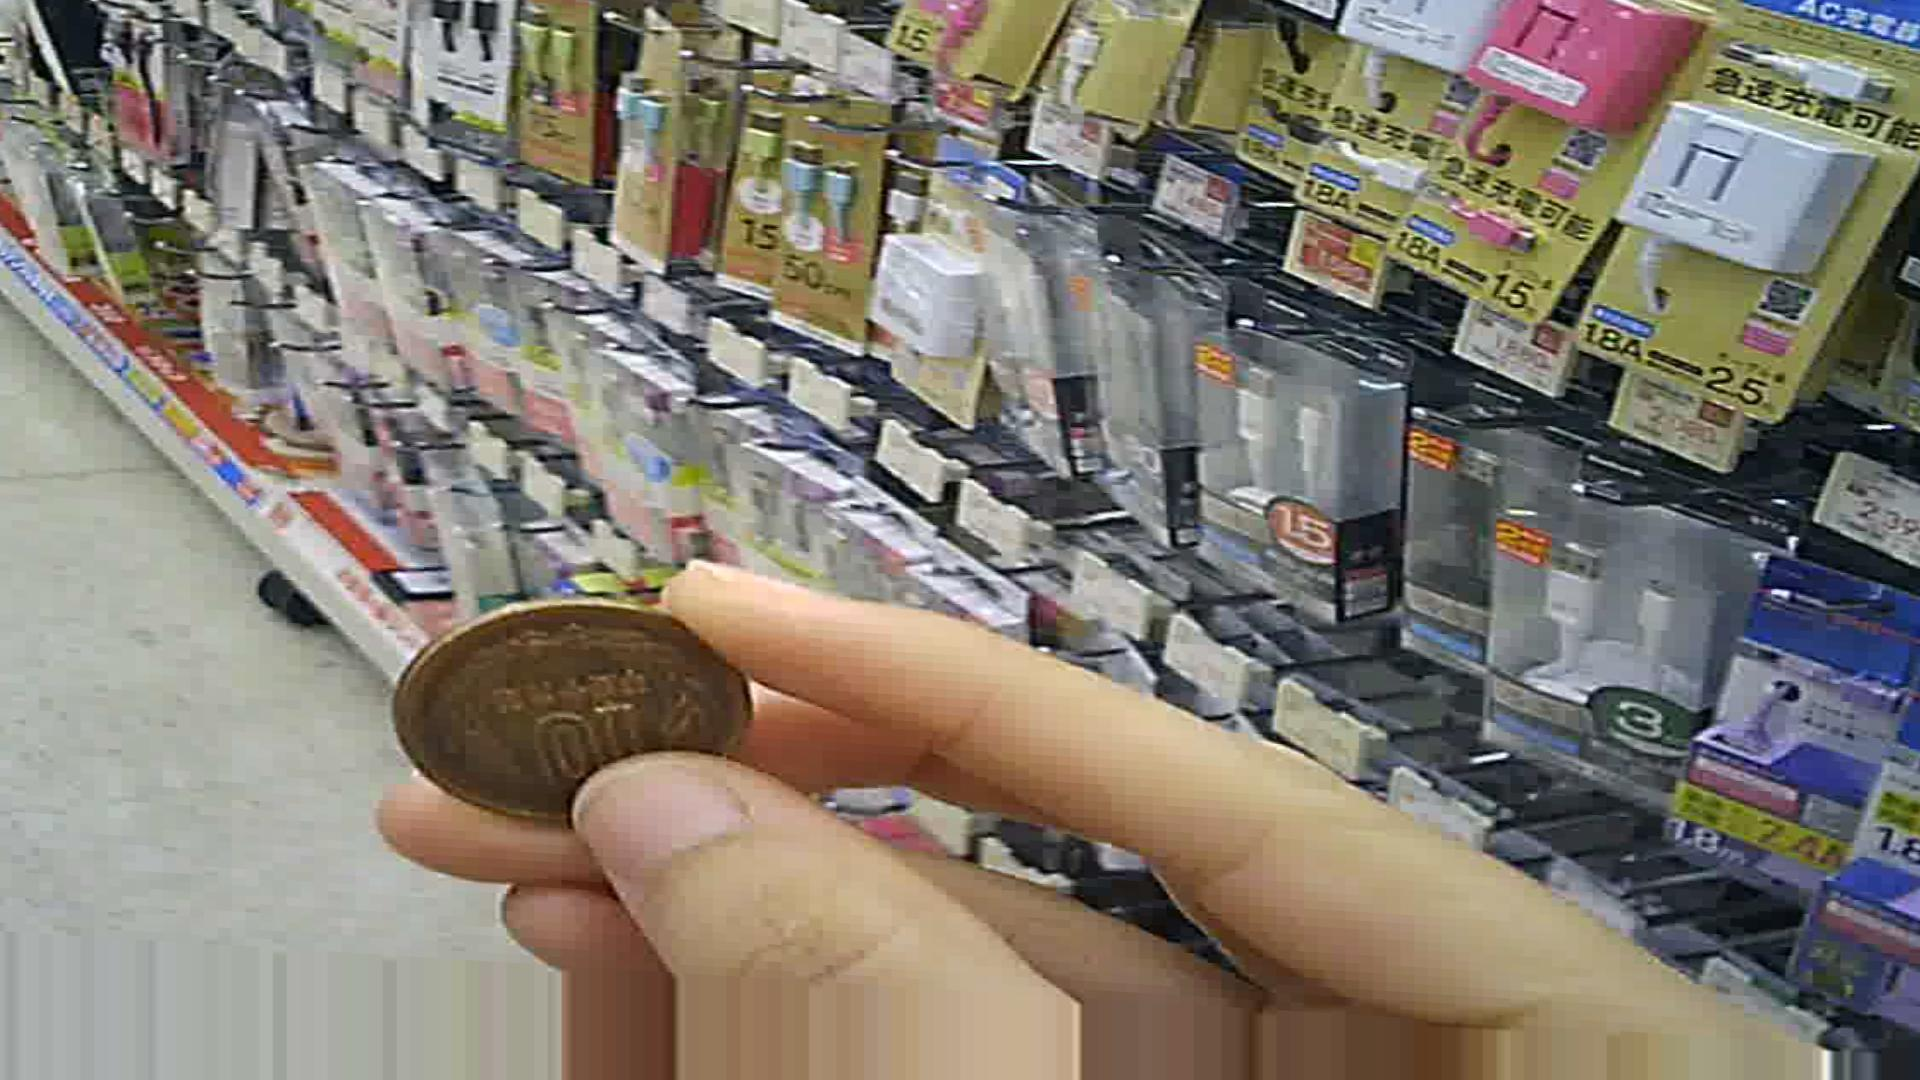10 Yen: (397, 585, 760, 818)
